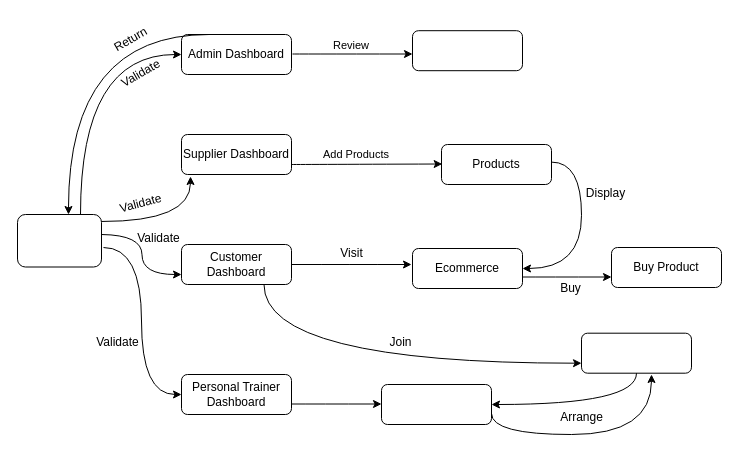
Image size: 739x452. Some labels were removed from this diagram. The shapes that lost their labels are listed below. From the top down, each one's centre as x and y in pixels, then its label:
At (467,50): "Applicants Review".
At (59,240): "Login".
At (636,352): "Join Meeting".
At (436,404): "Arrange Meeting With Customer".
